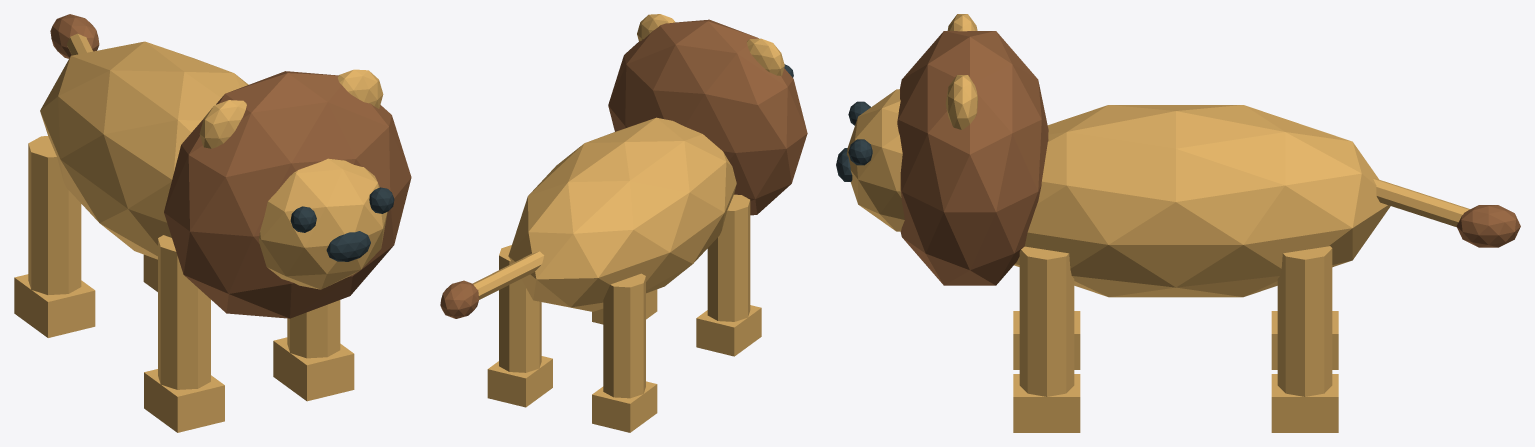
File: lion.glb
The picture shows the model from 3 angles, left to right: view 1: azimuth 30°, elevation 25°; view 2: azimuth 150°, elevation 25°; view 3: azimuth 270°, elevation 25°; orthographic projection. The views are drawn at different scales.
Visible parts, largest first — view 1: Round mane, Animal_body, Friendly muzzle, Animal_Leg2, Animal_Leg0, Hoof.002, Hoof.001, Hoof, Animal_Leg1, Round ear, Tail tuft, Round ear.001 (+5 smaller); view 2: Animal_body, Round mane, Animal_Leg2, Animal_Leg0, Animal_Leg3, Hoof, Hoof.002, Hoof.003, Tail, Tail tuft, Round ear, Round ear.001 (+1 smaller); view 3: Animal_body, Round mane, Animal_Leg3, Animal_Leg1, Friendly muzzle, Hoof.001, Hoof.003, Tail tuft, Tail, Round ear.001, Hoof, Hoof.002.
Part boxes in pixels (x1,y1,x2,y2): Round mane: [164, 71, 411, 318]; Animal_body: [40, 41, 248, 259]; Friendly muzzle: [259, 158, 387, 289]; Animal_Leg2: [28, 136, 81, 294]; Animal_Leg0: [158, 235, 210, 389]; Hoof.002: [14, 274, 95, 337]; Hoof.001: [273, 337, 354, 401]; Hoof: [144, 369, 224, 432]; Animal_Leg1: [287, 300, 340, 358]; Round ear: [199, 100, 246, 148]; Tail tuft: [50, 14, 99, 58]; Round ear.001: [337, 69, 383, 108]; Animal_body: [508, 117, 736, 311]; Round mane: [608, 19, 807, 215]; Animal_Leg2: [603, 273, 645, 398]; Animal_Leg0: [707, 194, 750, 321]; Animal_Leg3: [499, 245, 541, 372]; Hoof: [696, 305, 761, 356]; Hoof.002: [592, 381, 657, 432]; Hoof.003: [487, 356, 552, 407]; Tail: [473, 251, 544, 299]; Tail tuft: [440, 280, 479, 318]; Round ear: [746, 38, 784, 76]; Round ear.001: [637, 14, 675, 41]; Animal_body: [1014, 105, 1390, 297]; Round mane: [897, 31, 1048, 285]; Animal_Leg3: [1277, 246, 1332, 396]; Animal_Leg1: [1019, 246, 1074, 396]; Friendly muzzle: [846, 89, 904, 231]; Hoof.001: [1013, 374, 1080, 432]; Hoof.003: [1271, 374, 1338, 432]; Tail tuft: [1456, 205, 1520, 247]; Tail: [1373, 178, 1469, 227]; Round ear.001: [945, 75, 977, 129]; Hoof: [1013, 311, 1080, 369]; Hoof.002: [1271, 311, 1338, 369].
Bounding box in the file's own units: 1.03 × 1.57 × 2.76.
